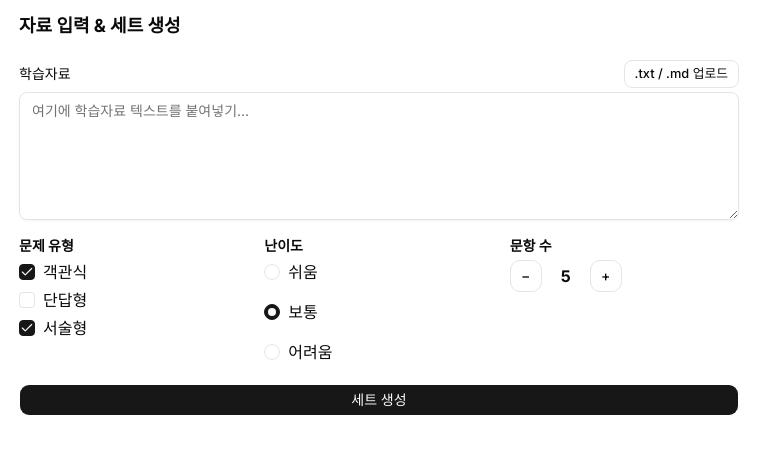
Test: CreateSet › [S1-3] 자료가 비어 있으면 안내 문구가 표시되고 세트가 생성되지 않는다
Click the button "세트 생성" at (379, 400), box [19,384,739,416]
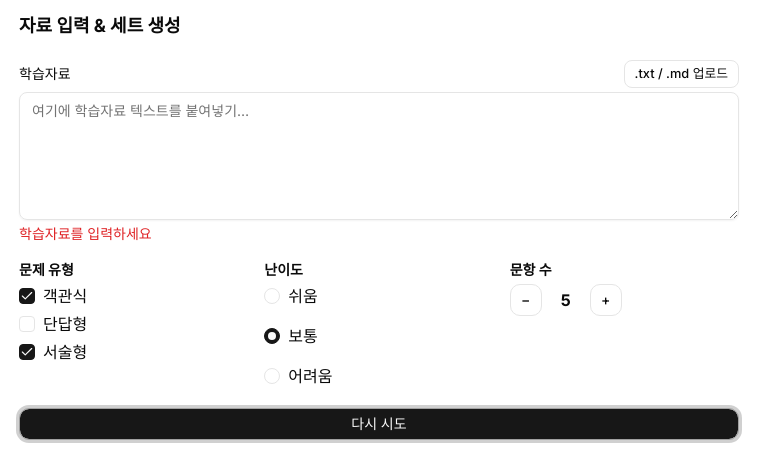
Now the text "학습자료를 입력하세요" is shown, box [19,225,152,242]
